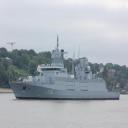Fragata: (9, 34, 122, 102)
